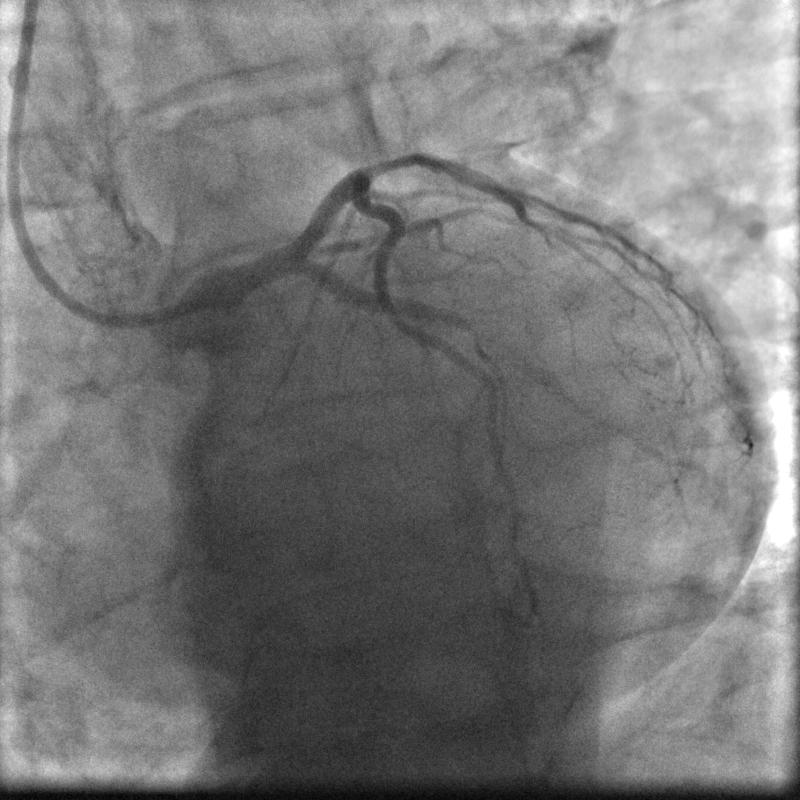Stenosis: (359, 139, 423, 180)
